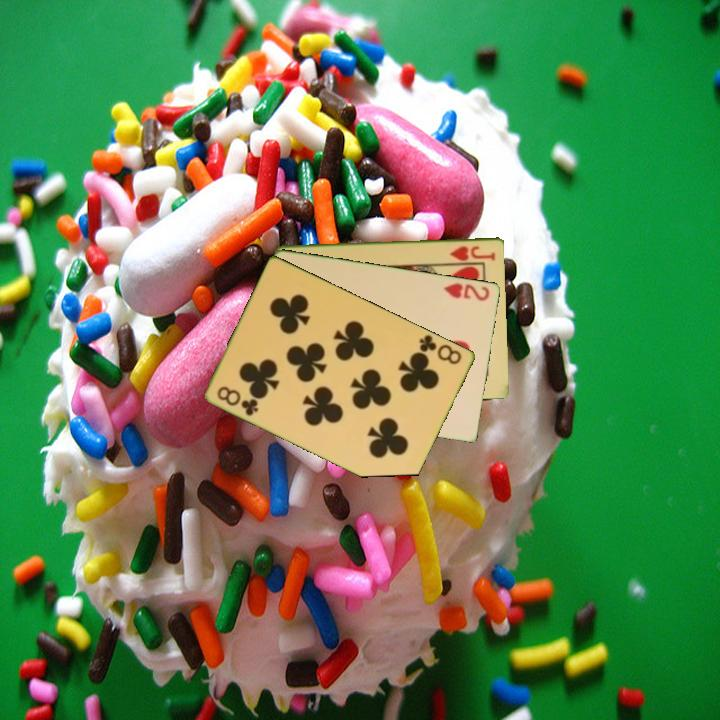2h: (440, 279, 493, 304)
8c: (415, 331, 465, 367), (214, 382, 262, 419)
Jh: (447, 242, 498, 263)
